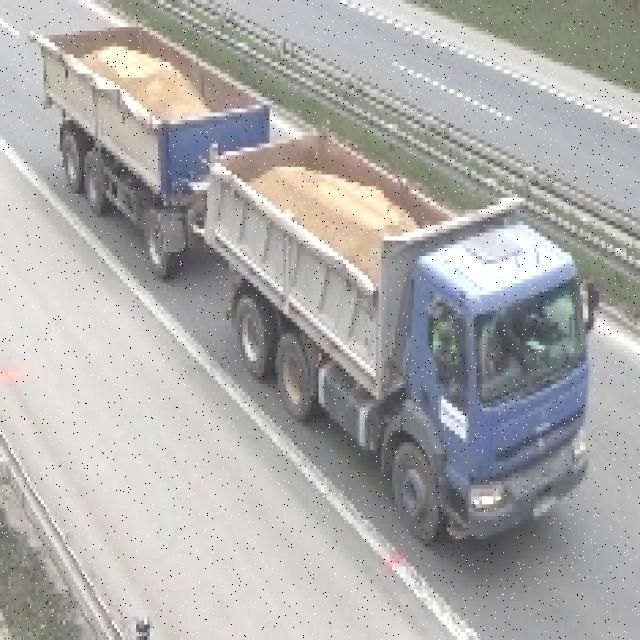truck: (41, 0, 602, 547)
